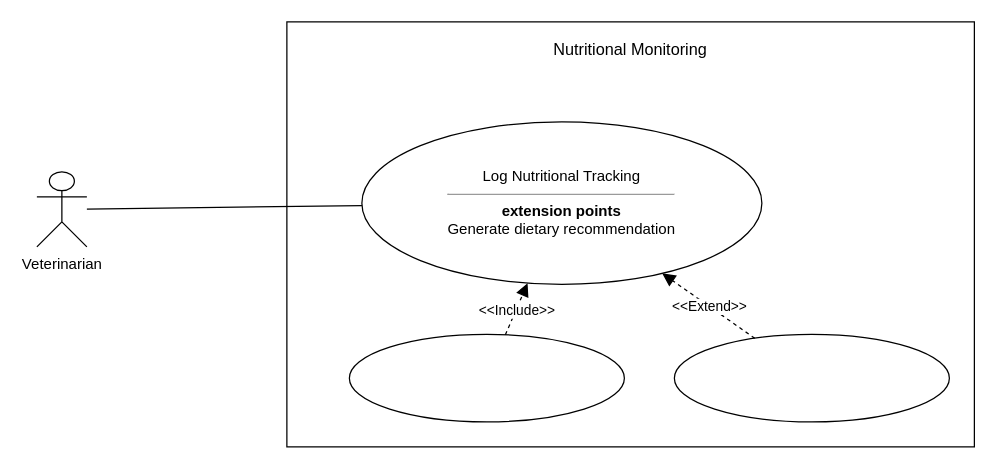
Some shapes in this 996 by 469 pixel diagram are drawn without their labels. The shapes that lost their labels are listed below. From the top down, each one's centre as x and y in pixels, then its label:
At [486,377]: "Record nutritional parameters".
At [811,377]: "Generate dietary recommendation".
